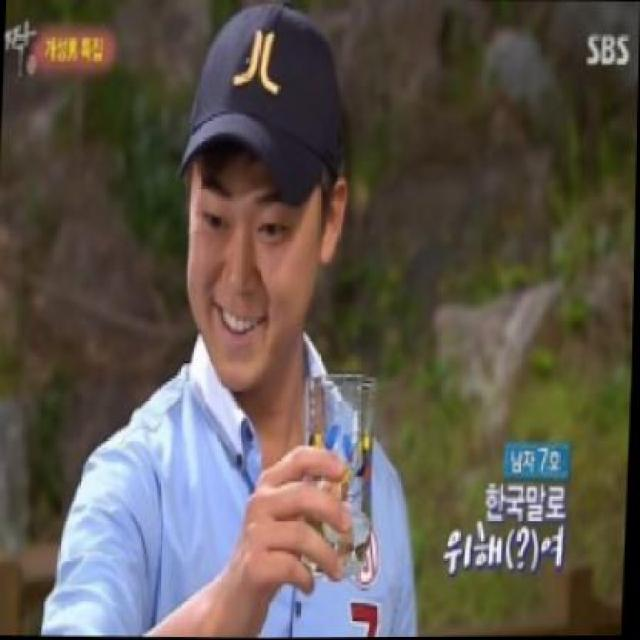hat: (175, 0, 352, 211)
